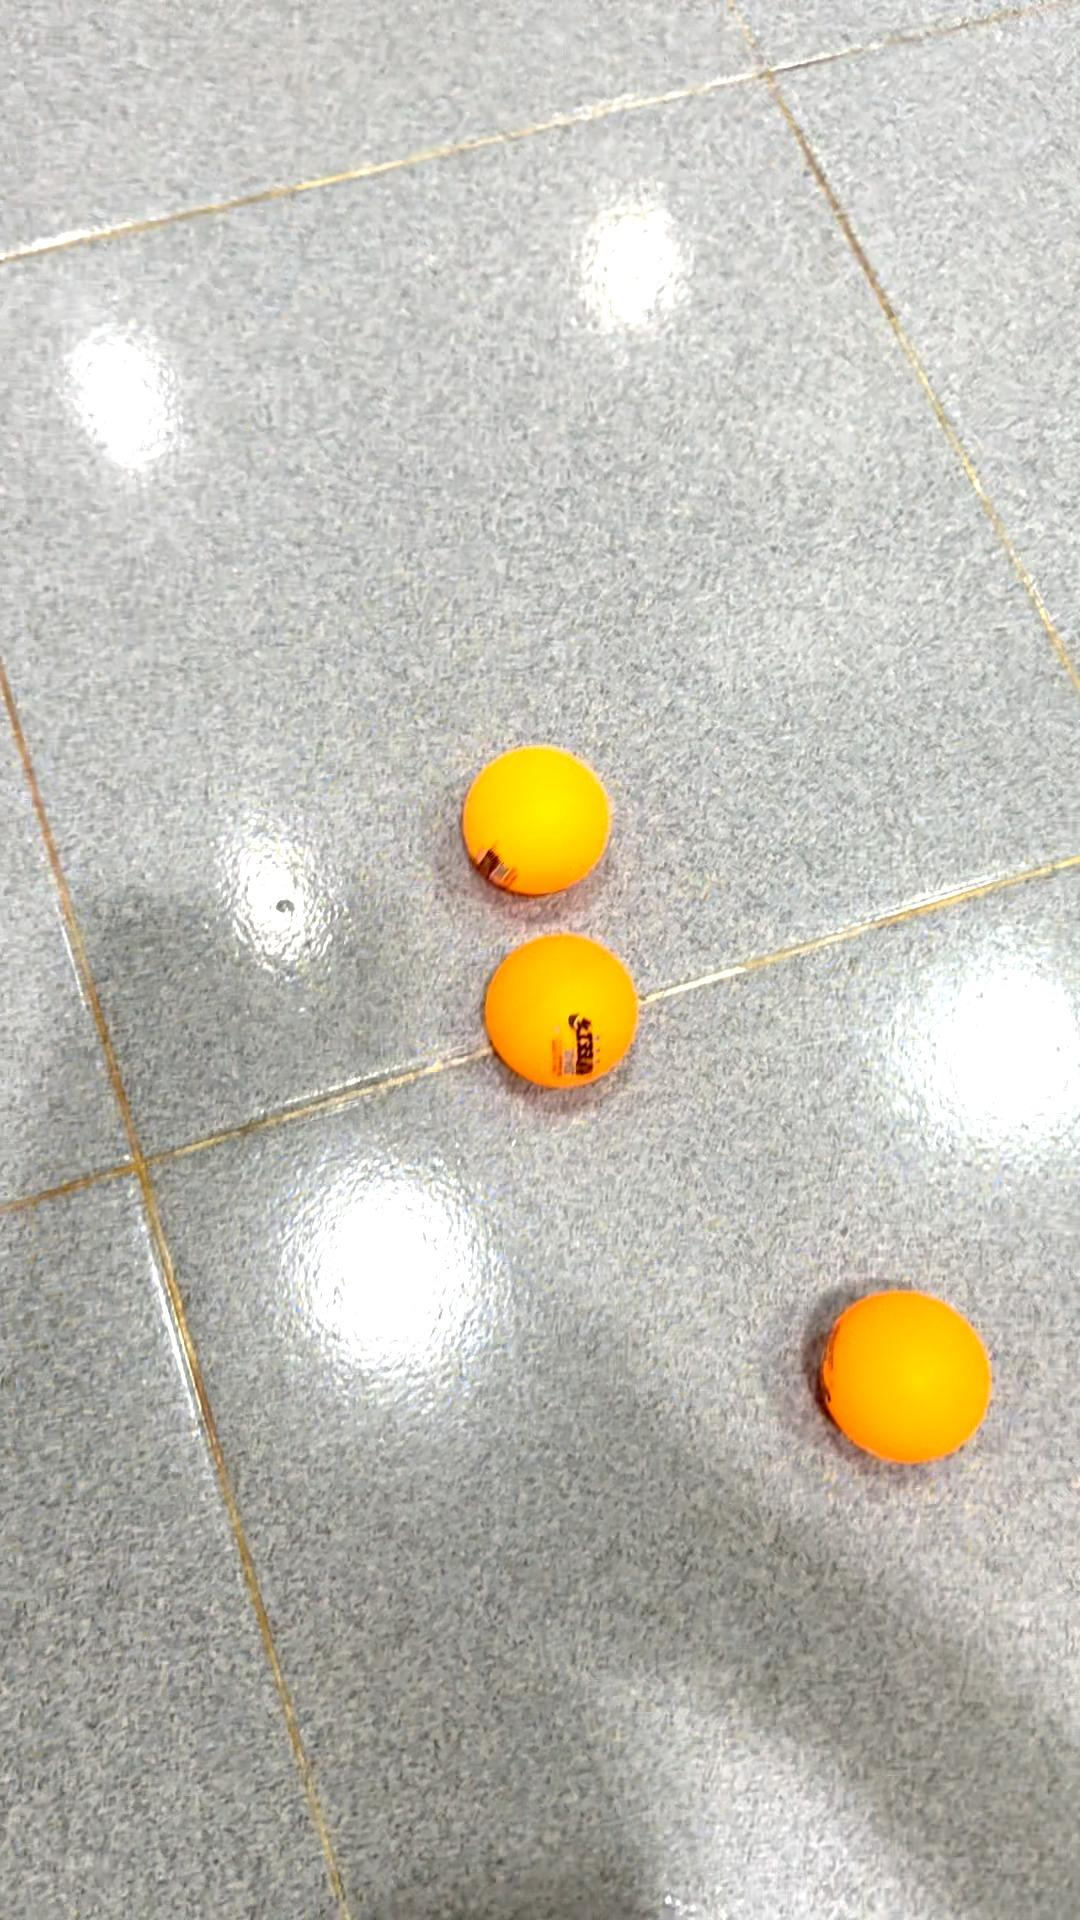oball: (810, 1284, 1000, 1470), (484, 924, 650, 1097), (456, 732, 626, 897)
